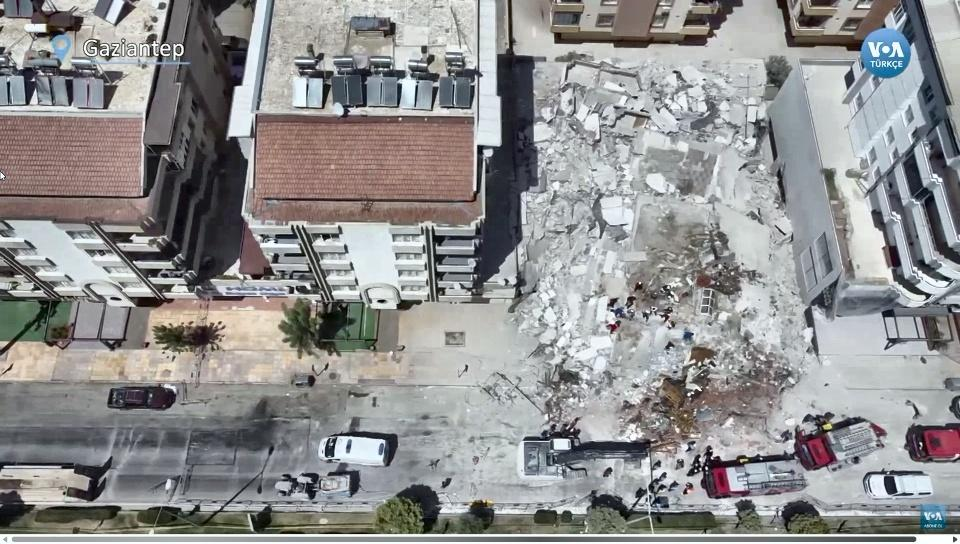kapali: (490, 386, 869, 516)
